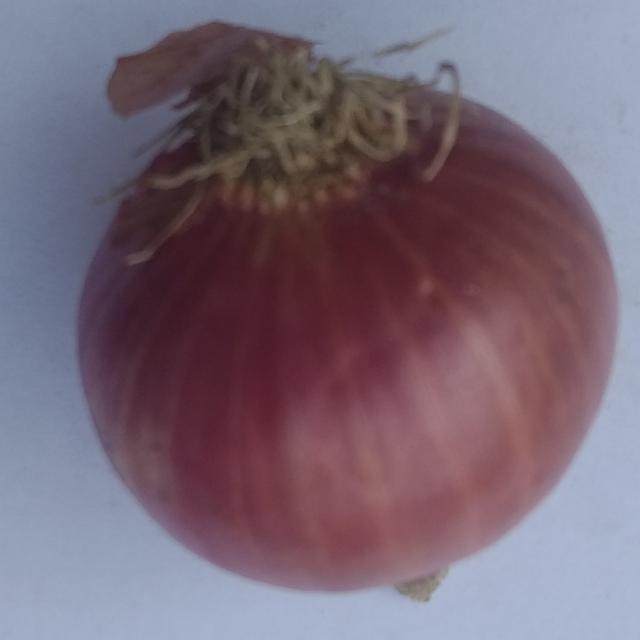onion: (71, 18, 622, 604)
